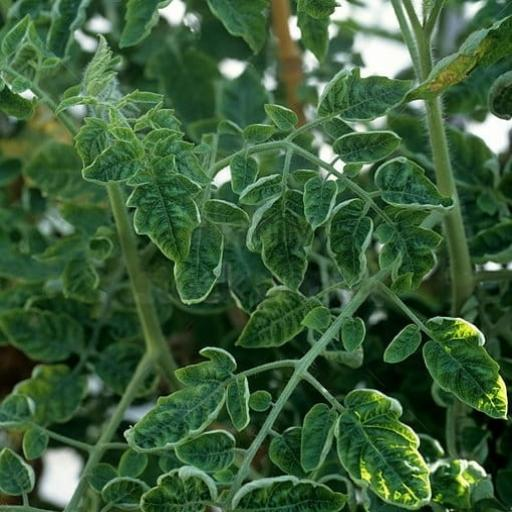disease_tomato: (122, 342, 251, 453), (337, 390, 434, 512), (420, 310, 512, 421), (170, 194, 254, 314), (127, 150, 204, 268), (243, 187, 319, 292), (314, 64, 420, 126), (373, 204, 446, 287), (235, 281, 316, 351), (324, 197, 379, 292), (0, 304, 84, 364), (373, 156, 458, 213), (224, 477, 352, 512), (133, 463, 218, 512), (174, 427, 239, 475), (296, 402, 336, 476), (328, 129, 404, 167), (82, 138, 142, 186), (302, 174, 339, 233), (74, 113, 111, 168), (380, 318, 422, 364)
